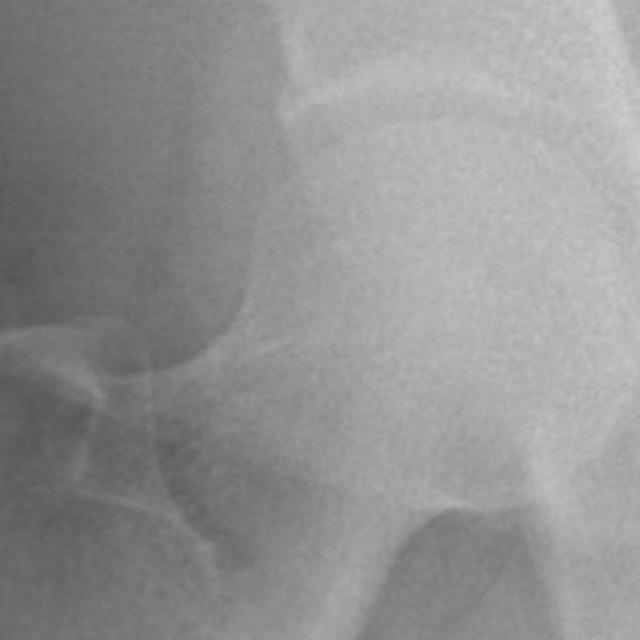Fitted_femural_head: (417, 115, 432, 417)
